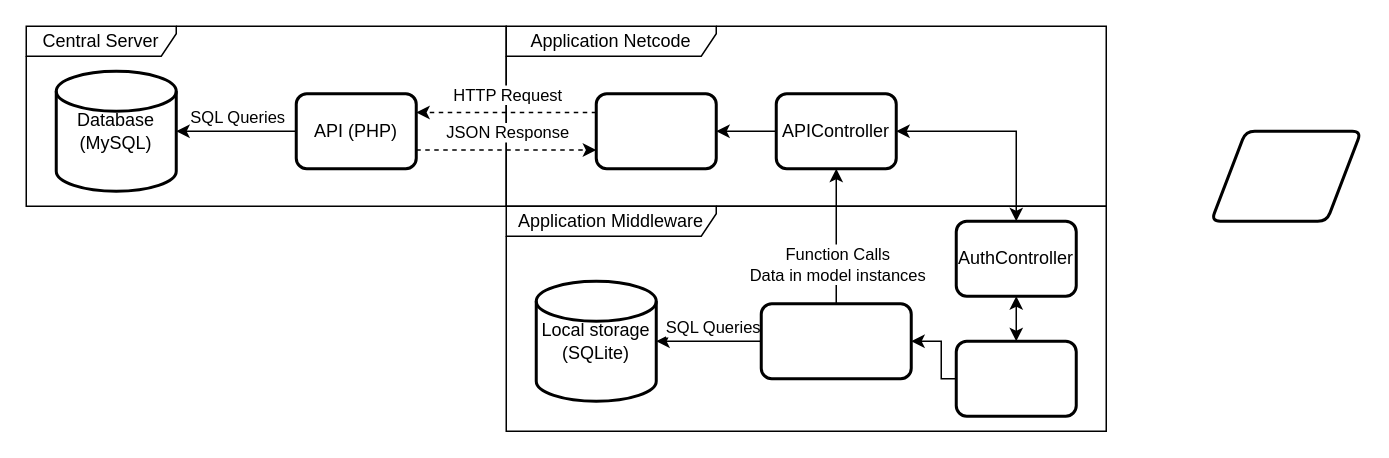
Image size: 1389x458. Some labels were removed from this diagram. The centre of each missing label's shape, as x and y in pixels:
"Application Controller" belongs at [1015,378].
"Data Models" belongs at [1285,175].
"NetController" belongs at [655,131].
"StorageController" belongs at [835,341].
